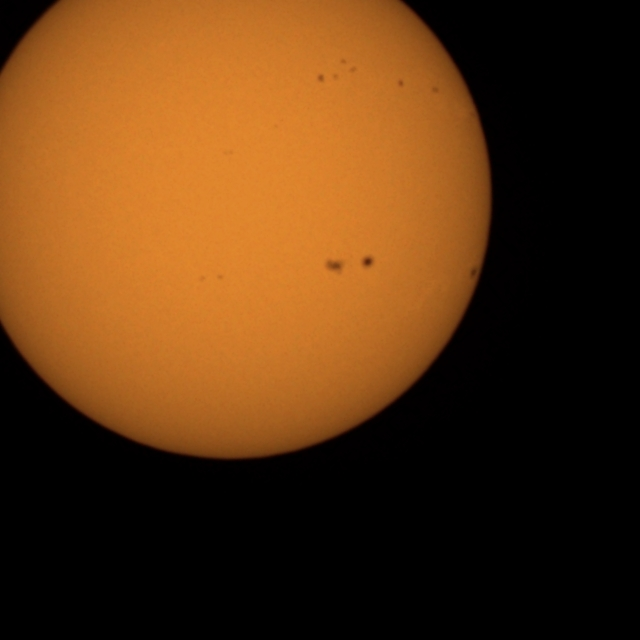sunspot: (320, 58, 358, 84), (323, 256, 347, 277), (334, 57, 358, 77), (316, 68, 344, 84), (198, 272, 226, 284), (359, 253, 376, 271), (468, 265, 479, 281), (221, 148, 235, 158), (316, 72, 326, 84), (430, 84, 440, 95), (396, 78, 406, 89), (216, 272, 225, 282), (198, 274, 207, 284)
